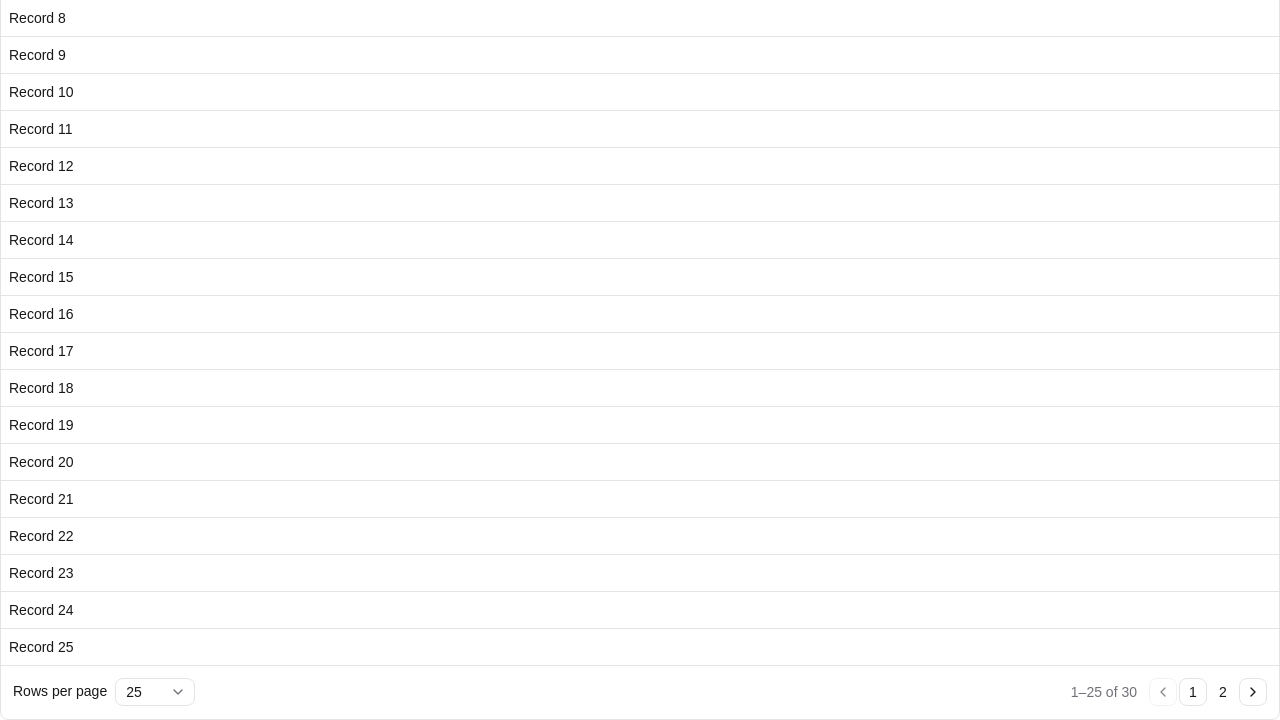
Test case: DataTable pagination › changes local page size and returns to page one
This screenshot has width=1280, height=720.
(page scrolled)
Click the button named "Next table page" at (1253, 692), box [1239, 678, 1267, 706]
(page scrolled)
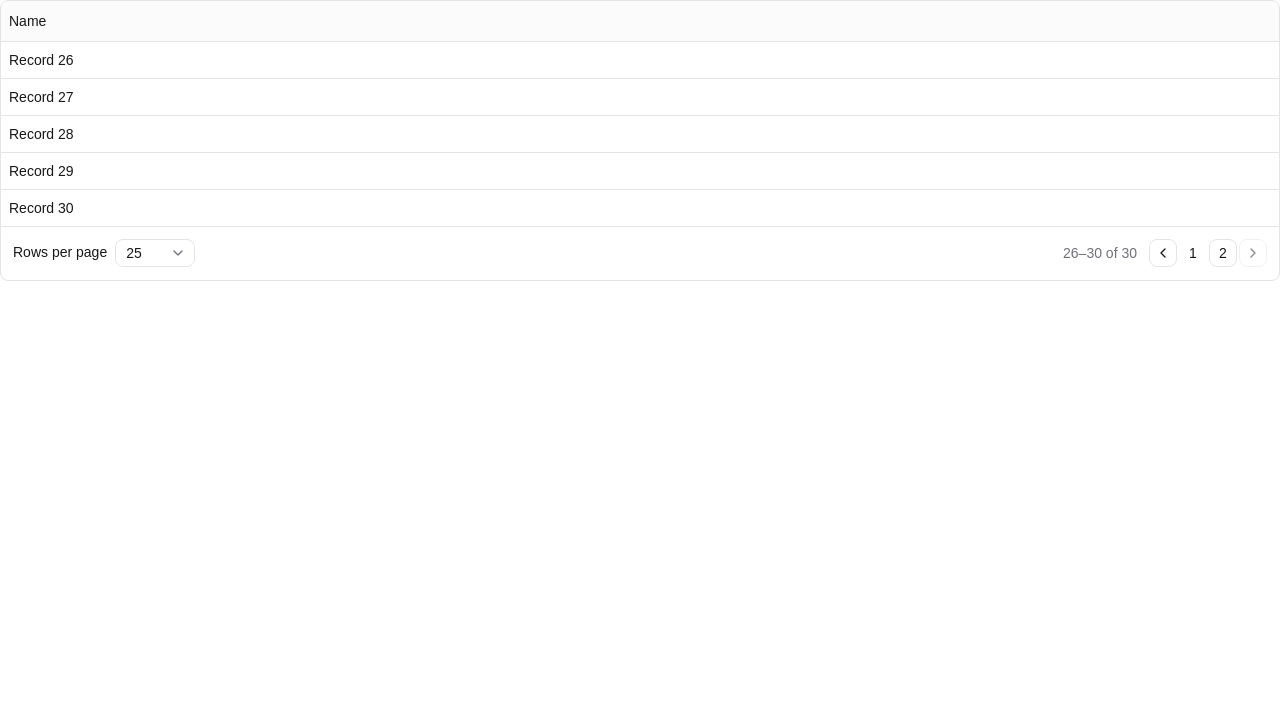
Now the text "Record 26" is shown, box [1, 41, 1279, 78]
Click the dropdown named "Rows per page" at (155, 253), box [115, 239, 195, 267]
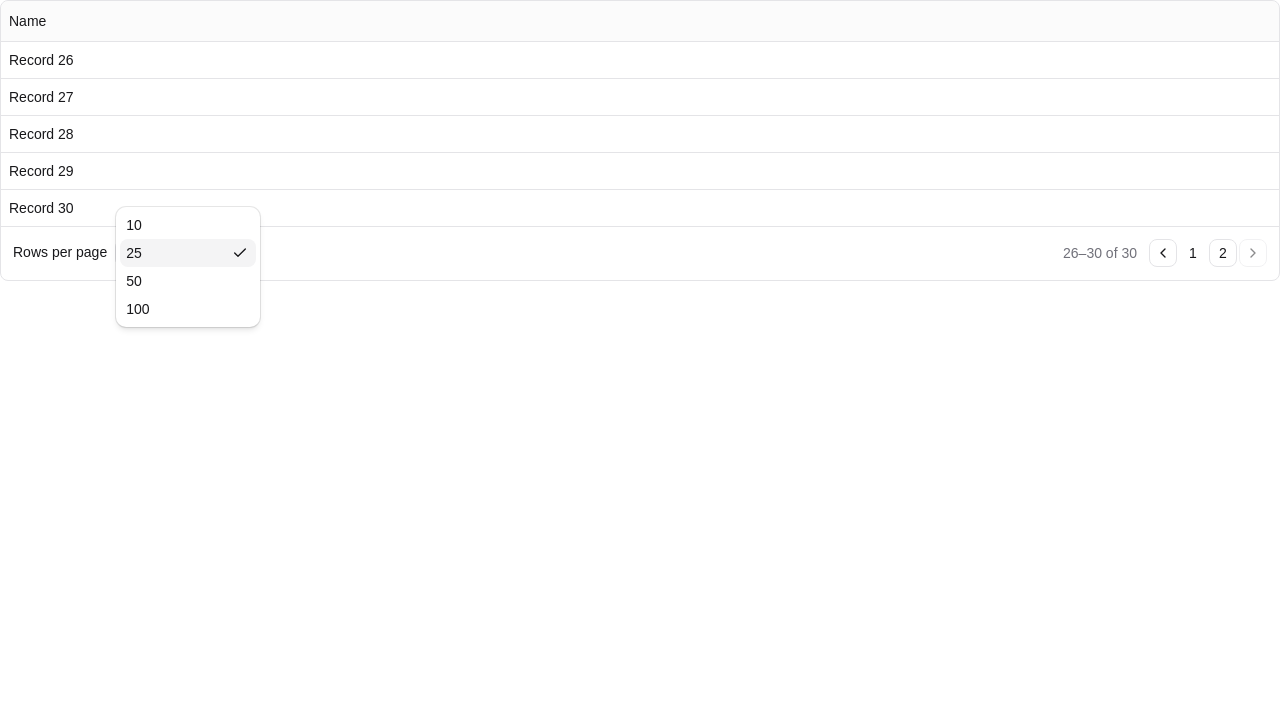
Click the option "10" at (134, 225), box [126, 217, 142, 233]
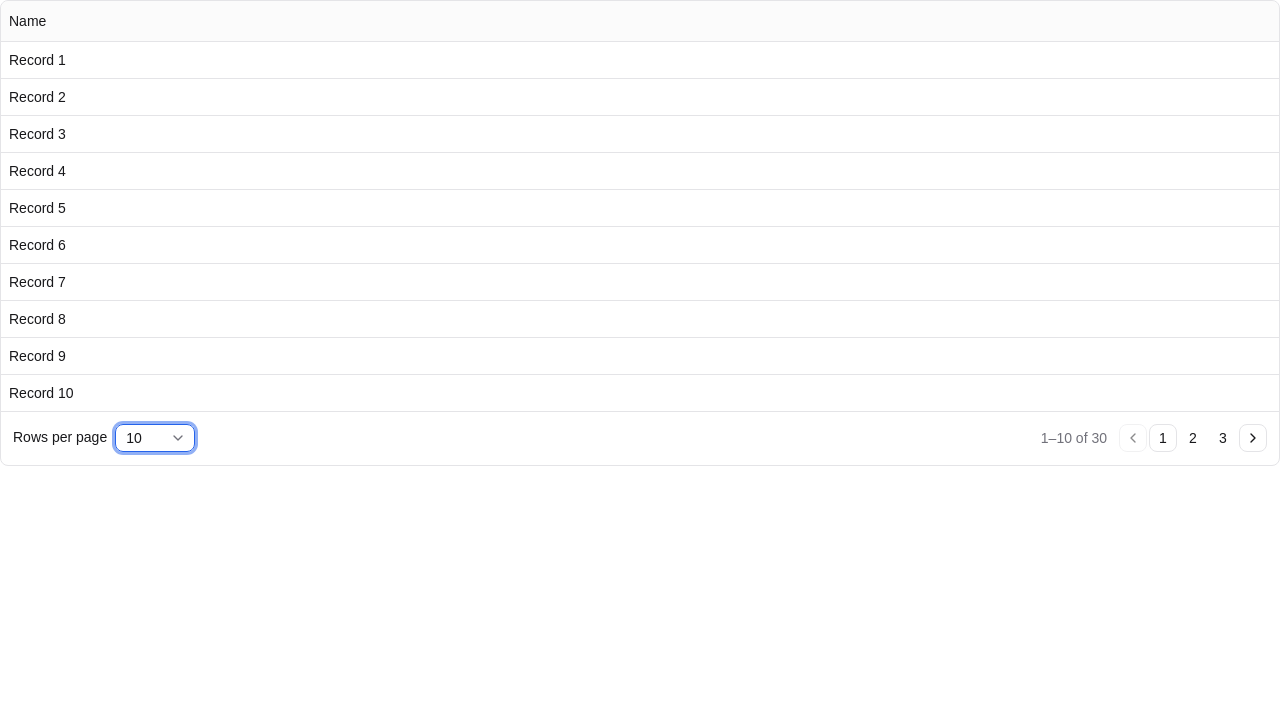
Now the text "1–10 of 30" is shown, box [1041, 428, 1107, 448]
Now the text "Record 1" is shown, box [1, 41, 1279, 78]
Now the text "Record 26" is gone
